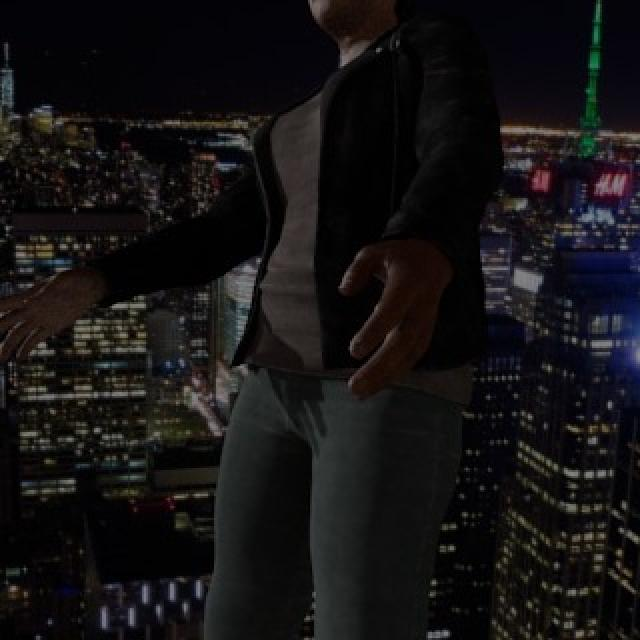not-gloved: (314, 237, 462, 410), (0, 274, 114, 379)
